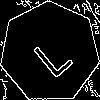L: (25, 27, 75, 80)
